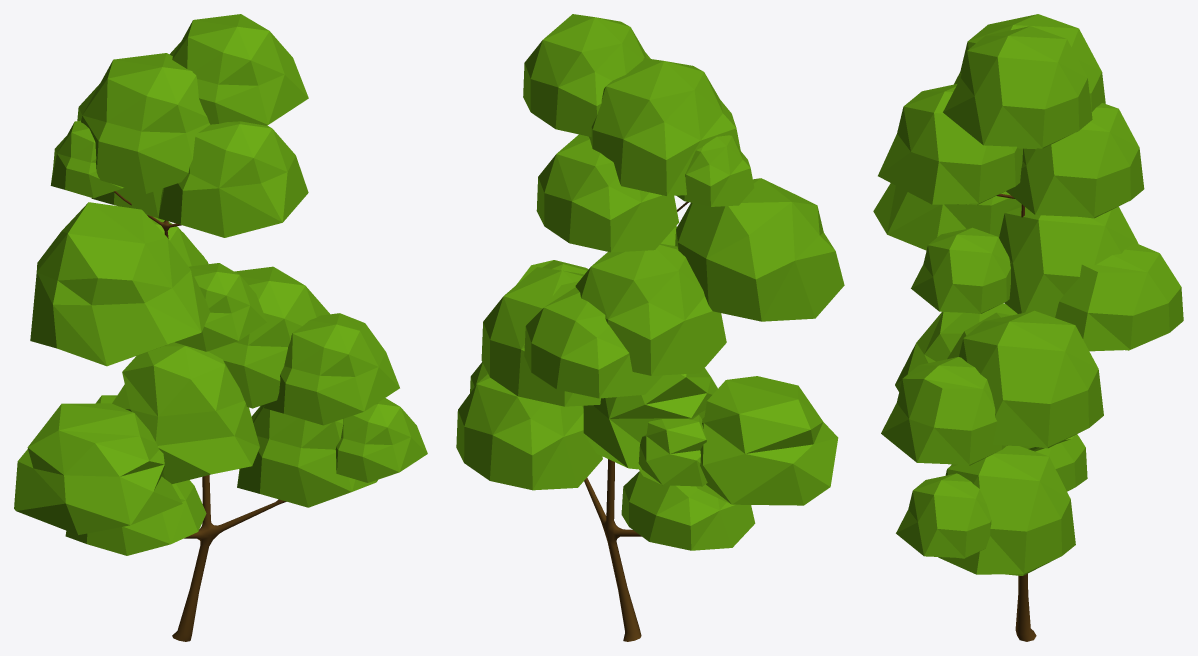
The model's file is OpenTreeMK2.fbx.
3 renders of one model, left to right at view 1: azimuth 30°, elevation 25°; view 2: azimuth 150°, elevation 25°; view 3: azimuth 270°, elevation 25°, orthographic. The views are drawn at different scales.
Visible parts, largest first — view 1: Sphere.006, Sphere.001, Sphere.010, Sphere.002, Sphere.004, Sphere, Sphere.013, Sphere.015, Sphere.012, Sphere.014, Sphere.007, Sphere.016 (+4 smaller); view 2: Sphere.006, Sphere.001, Sphere.002, Sphere.009, Sphere.015, Sphere.005, Sphere, Sphere.008, Sphere.016, Sphere.012, Sphere.010, Sphere.011 (+2 smaller); view 3: Sphere.012, Sphere, Sphere.015, Sphere.004, Sphere.005, Sphere.008, Sphere.013, Sphere.009, Sphere.007, Sphere.014, Sphere.006, Sphere.002 (+4 smaller).
Part boxes in pixels (x1,y1,x2,y2): Sphere.006: (30,202,209,366); Sphere.001: (14,403,182,535); Sphere.010: (112,342,259,483); Sphere.002: (77,53,209,193); Sphere.004: (158,121,308,237); Sphere: (169,14,308,125); Sphere.013: (264,313,399,425); Sphere.015: (237,405,377,507); Sphere.012: (208,266,329,408); Sphere.014: (335,398,427,482); Sphere.007: (175,263,266,351); Sphere.016: (65,480,206,555); Sphere.006: (675,178,844,321); Sphere.001: (696,376,838,505); Sphere.002: (589,58,740,196); Sphere.009: (575,243,726,375); Sphere.015: (456,374,602,490); Sphere.005: (536,134,678,252); Sphere: (523,14,650,136); Sphere.008: (524,281,662,398); Sphere.016: (621,471,755,550); Sphere.012: (481,267,600,406); Sphere.010: (583,368,717,469); Sphere.011: (638,415,707,486); Sphere.012: (959,310,1103,448); Sphere: (943,26,1092,148); Sphere.015: (938,445,1075,575); Sphere.004: (878,84,1022,205); Sphere.005: (1006,103,1144,218); Sphere.008: (1055,243,1183,351); Sphere.013: (881,357,1006,465); Sphere.009: (999,203,1138,317); Sphere.007: (911,227,1010,313); Sphere.014: (896,473,991,558); Sphere.006: (873,183,1019,250); Sphere.002: (954,14,1105,149).
Bounding box in the file's own units: 2599 × 3991 × 1796.
